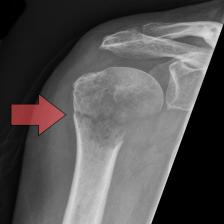pathological-fracture: (15, 1, 219, 224)
